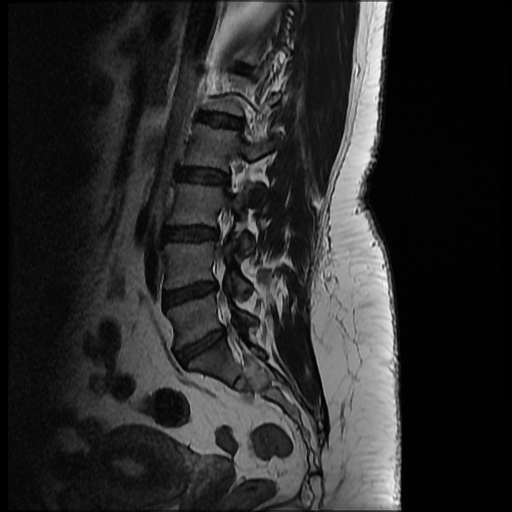RFS0: (212, 148, 249, 197)
